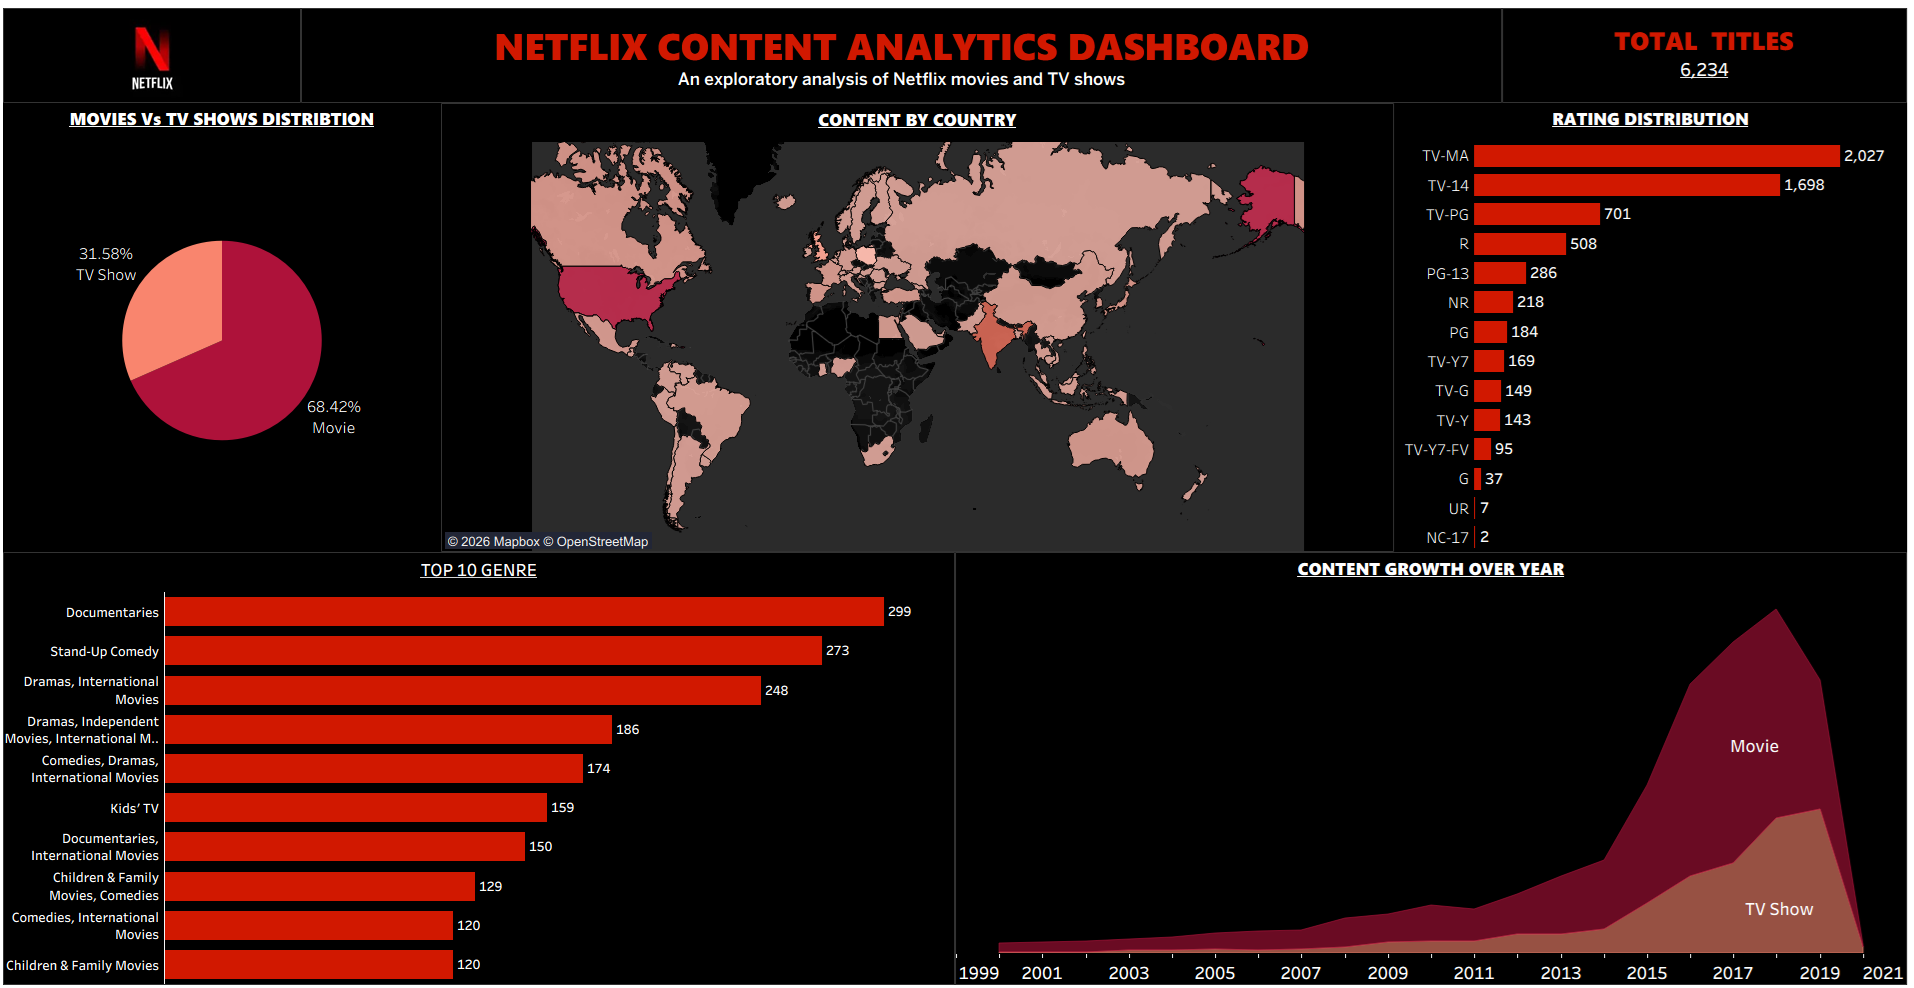

The dashboard page shown, as its layout file describes it:
{"tool":"tableau","page":{"name":"Netflix Content Analytics Dashboard","canvas":[1000,1000],"units":"permille","ordinal":0},"visuals":[{"type":"image","param":"Image/OIP (28).jpg","box":[4.8,10,155,94.8]},{"type":"text","box":[159.8,10,624.7,94.8]},{"type":"worksheet","title":"KPI","mark":"Automatic","box":[784.5,10,210.7,94.8]},{"type":"worksheet","title":"Movies vs TV Shows ","mark":"Pie","box":[4.8,104.8,227.8,450.7]},{"type":"worksheet","title":"Content by Country","mark":"Multipolygon","box":[232.7,104.8,495.5,450.7]},{"type":"worksheet","title":"Rating Distribution","mark":"Automatic","rows":["rating"],"cols":["show_id"],"box":[728.2,104.8,267,450.7]},{"type":"worksheet","title":"Top 10 Genre","mark":"Automatic","rows":["listed_in"],"cols":["show_id"],"box":[4.8,555.5,495.2,434.5]},{"type":"worksheet","title":"Content by Release Year","mark":"Area","rows":["show_id"],"cols":["release_year"],"box":[500,555.5,495.2,434.5]}]}

Visuals, with their boxes on the dashboard's canvas, which has no fixed pixel size, in thousandths of its width and height (x1, y1, x2, y2). These are canvas units, not pixel positions in the 1914x988 screenshot, which may show the page scaled, cropped or inside an application window:
image: box=[5, 10, 160, 105]
text: box=[160, 10, 784, 105]
"KPI" worksheet: box=[784, 10, 995, 105]
"Movies vs TV Shows " worksheet (Pie marks): box=[5, 105, 233, 556]
"Content by Country" worksheet (Multipolygon marks): box=[233, 105, 728, 556]
"Rating Distribution" worksheet: box=[728, 105, 995, 556]
"Top 10 Genre" worksheet: box=[5, 556, 500, 990]
"Content by Release Year" worksheet (Area marks): box=[500, 556, 995, 990]
